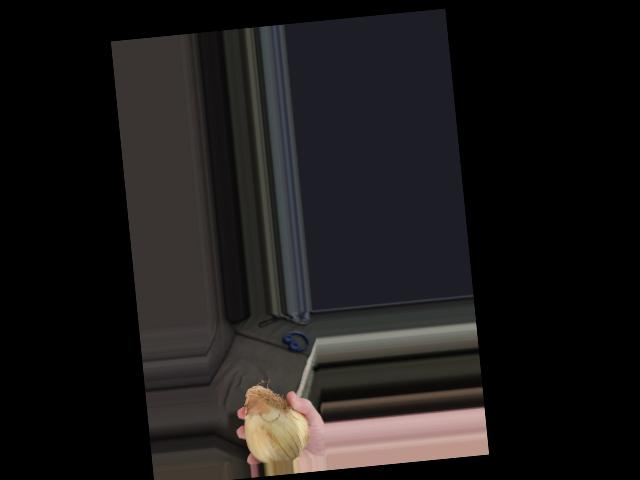onion: (239, 379, 310, 460)
